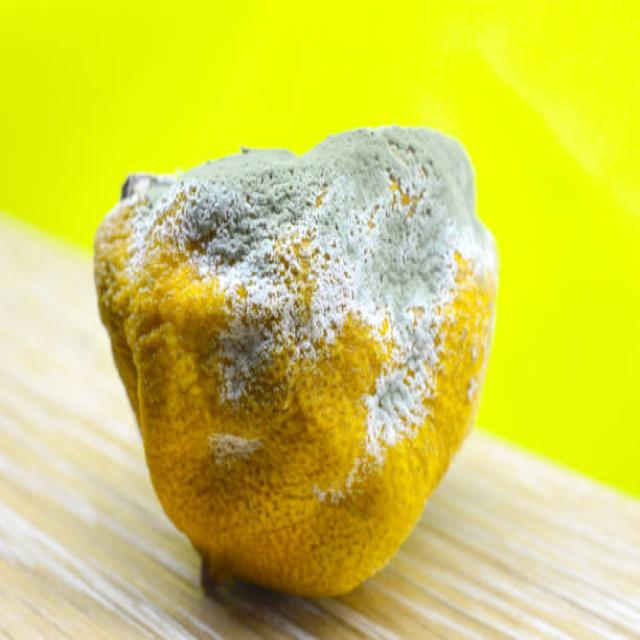Rotten: (94, 122, 496, 599)
